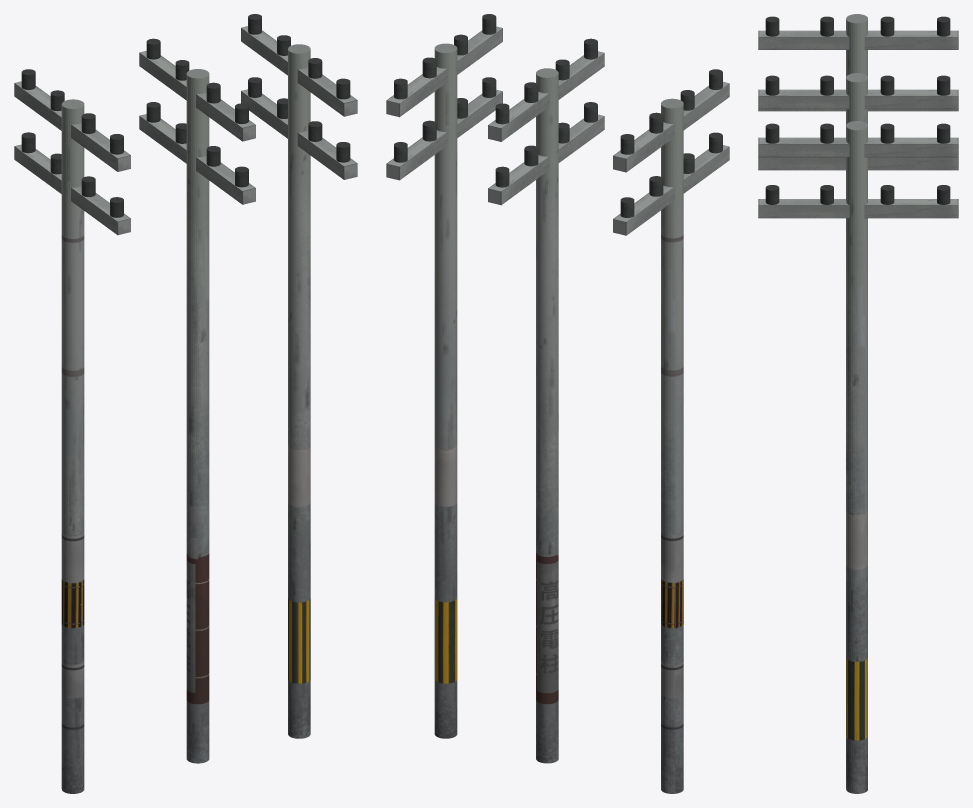
Rendered from light pole01.fbx.
3 renders of one model, left to right at view 1: azimuth 30°, elevation 25°; view 2: azimuth 150°, elevation 25°; view 3: azimuth 270°, elevation 25°, orthographic. The views are drawn at different scales.
Visible parts, largest first — view 1: Cube.004, Cube.002, Cube.005; view 2: Cube.005, Cube.002, Cube.004; view 3: Cube.005, Cube.004, Cube.002.
Boxes of the visible parts, x1=… form: Cube.004: x1=139, y1=38, x2=255, y2=763; Cube.002: x1=14, y1=69, x2=130, y2=793; Cube.005: x1=241, y1=14, x2=357, y2=738; Cube.005: x1=386, y1=14, x2=502, y2=738; Cube.002: x1=613, y1=69, x2=729, y2=793; Cube.004: x1=488, y1=38, x2=604, y2=763; Cube.005: x1=758, y1=121, x2=958, y2=793; Cube.004: x1=758, y1=73, x2=958, y2=170; Cube.002: x1=758, y1=14, x2=958, y2=111.
Bounding box in the file's own units: 129 × 345 × 94.14.
